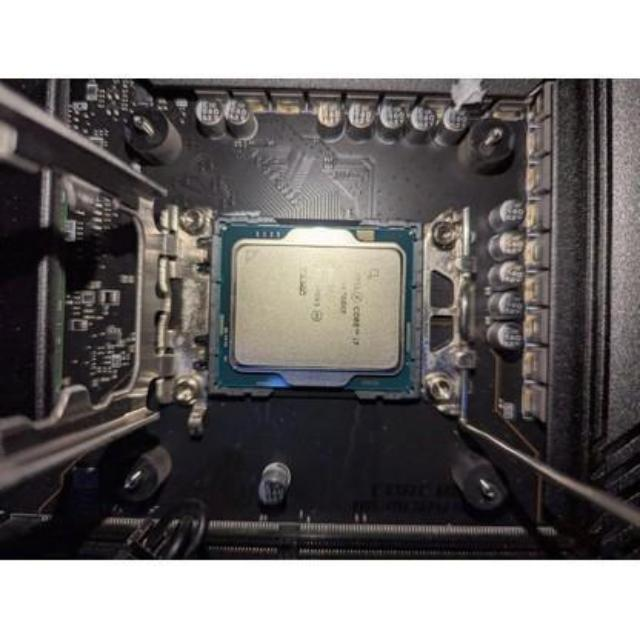CPU: (216, 225, 410, 388)
